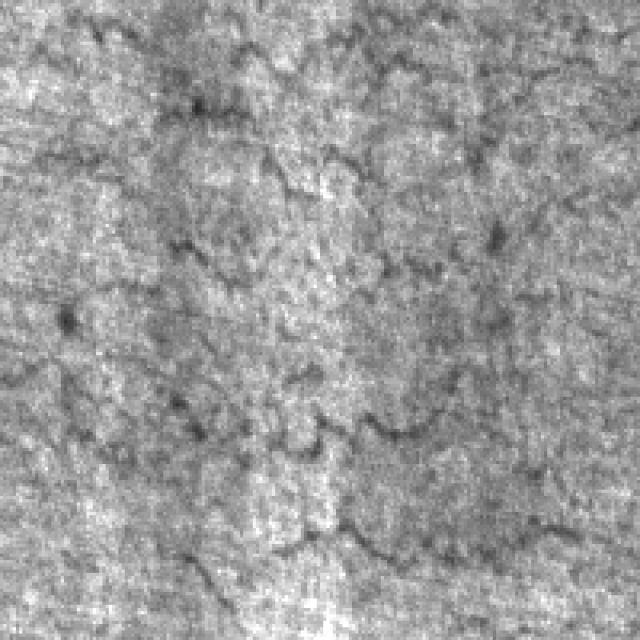crazing: (246, 237, 640, 573), (38, 6, 637, 224), (10, 237, 336, 499)
